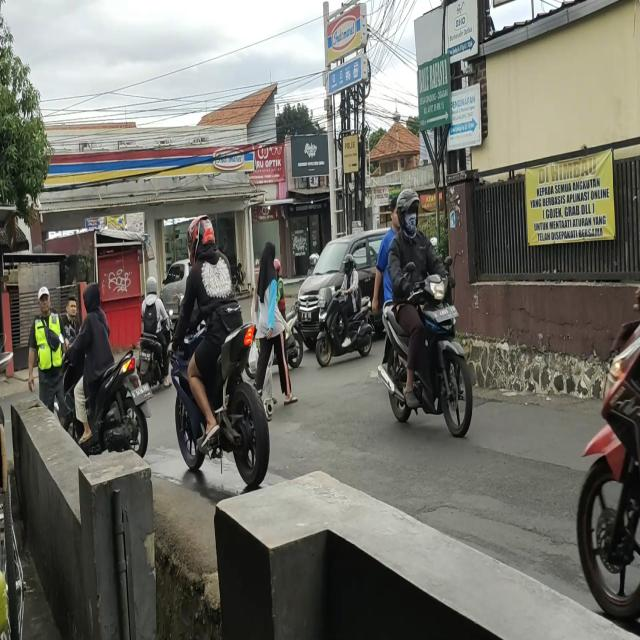helmet: (186, 215, 217, 259), (396, 189, 421, 234), (144, 274, 160, 299), (342, 254, 356, 278)
no-helmet: (82, 286, 103, 313), (65, 293, 78, 321)
